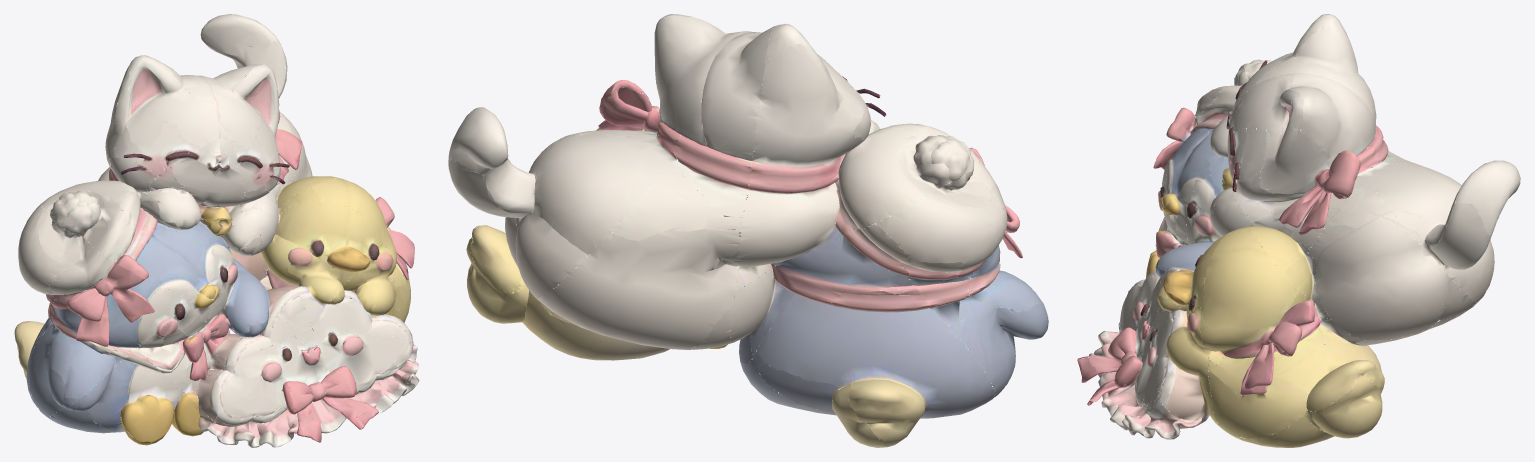
Rendered from plush_pile.glb.
3 renders of one model, left to right at view 1: azimuth 30°, elevation 25°; view 2: azimuth 150°, elevation 25°; view 3: azimuth 270°, elevation 25°, orthographic. The views are drawn at different scales.
Parts seen in each view (by area): view 1: tripo_node_9e7228e8-6817-4048-a041-77efbdec6f53; view 2: tripo_node_9e7228e8-6817-4048-a041-77efbdec6f53; view 3: tripo_node_9e7228e8-6817-4048-a041-77efbdec6f53.
Boxes of the visible parts, x1=… form: tripo_node_9e7228e8-6817-4048-a041-77efbdec6f53: x1=14, y1=14, x2=419, y2=447; tripo_node_9e7228e8-6817-4048-a041-77efbdec6f53: x1=448, y1=14, x2=1048, y2=447; tripo_node_9e7228e8-6817-4048-a041-77efbdec6f53: x1=1077, y1=14, x2=1520, y2=447.
Bounding box in the file's own units: 0.979 × 0.7467 × 0.8841.
Materials: 1 (1 with a texture image).
